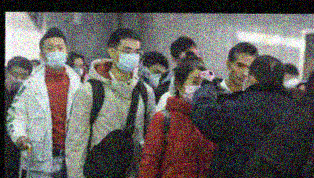with_mask: (114, 45, 142, 75), (181, 73, 205, 106), (42, 42, 68, 70), (8, 69, 30, 93), (147, 67, 166, 88), (282, 73, 300, 90), (70, 59, 85, 79)
without_mask: (229, 60, 252, 87)
